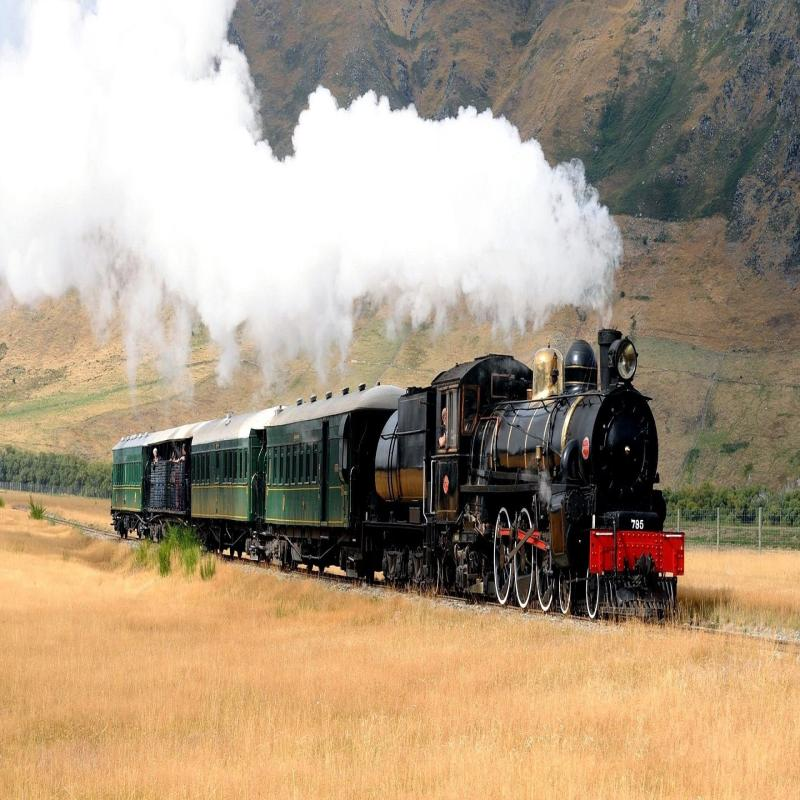train: (375, 297, 700, 636), (190, 377, 403, 604), (108, 423, 205, 576)
